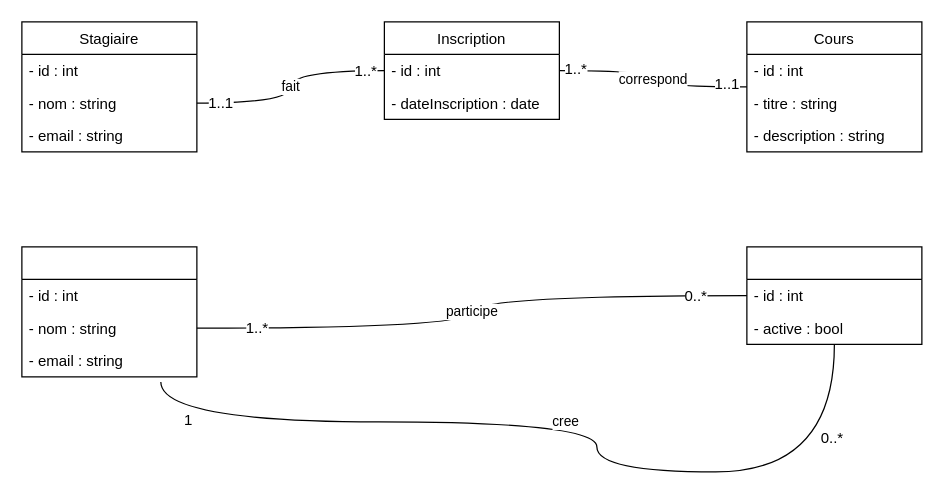
The diagram is 944 pixels wide and 494 high, and some of its shapes have lost their labels. Each missing label, with the box of its shape:
Joueur: (21, 246, 197, 377)
Partie: (746, 246, 922, 344)
